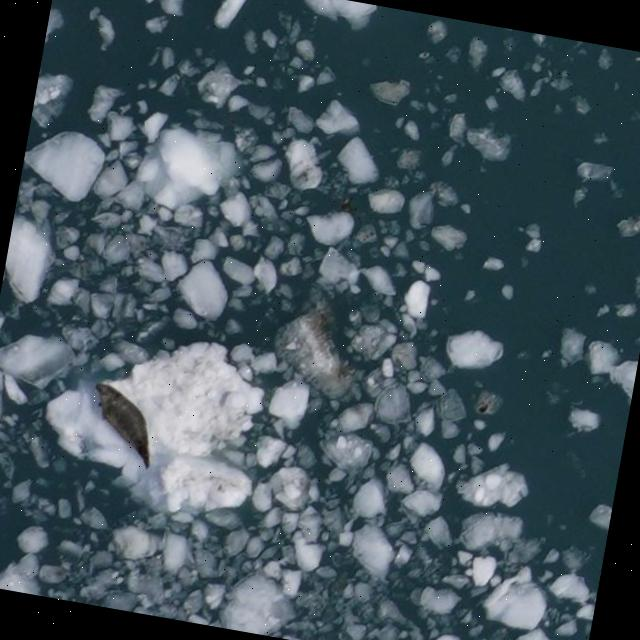seal: (97, 383, 152, 470)
